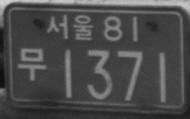1: (150, 51, 175, 104), (56, 48, 81, 99), (126, 14, 144, 42)
3: (86, 48, 113, 101)
7: (116, 49, 144, 102)
8: (102, 14, 123, 42)
무: (16, 47, 47, 81)
서울_O: (46, 13, 94, 41)
